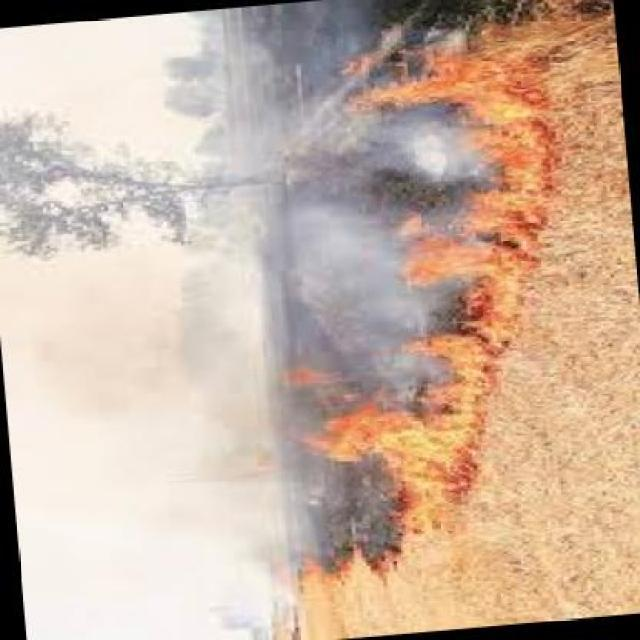Fire: (296, 388, 486, 511), (320, 28, 552, 123), (394, 218, 544, 304), (463, 129, 574, 236), (408, 314, 514, 369)
Smoke: (168, 61, 358, 238), (122, 270, 243, 519), (281, 260, 415, 362), (372, 118, 468, 187)
